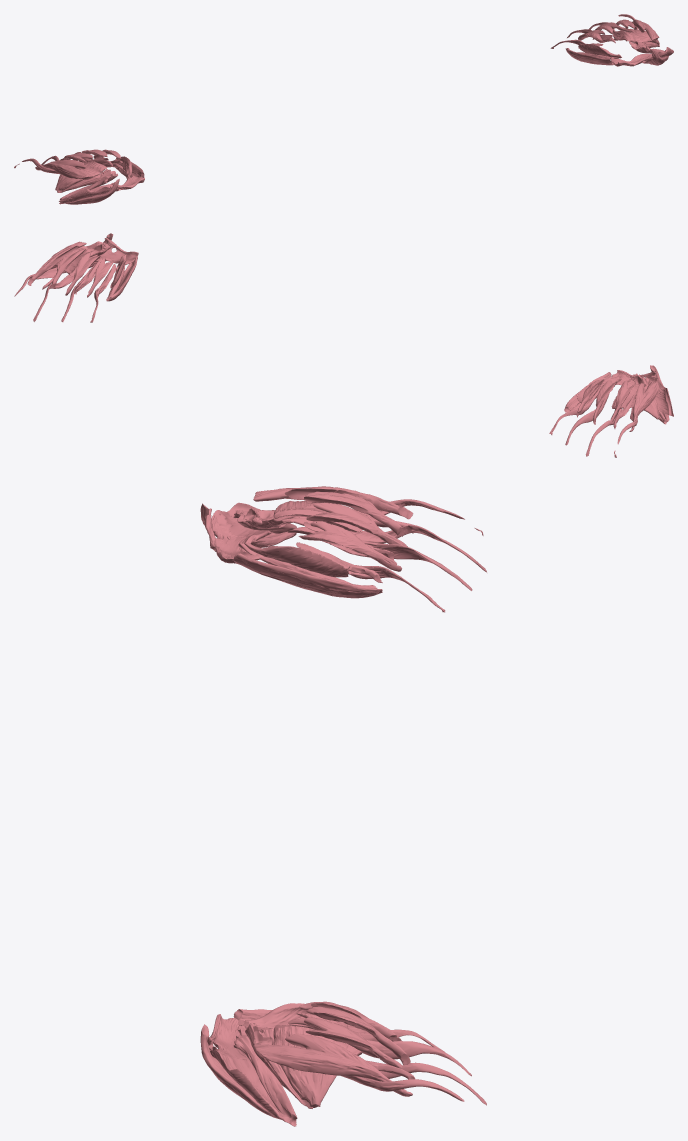
The model's file is main-muscles.glb.
3 renders of one model, top to bottom at view 1: azimuth 30°, elevation 25°; view 2: azimuth 150°, elevation 25°; view 3: azimuth 270°, elevation 25°, orthographic. The views are drawn at different scales.
Parts seen in each view (by area): view 1: interosseux_dorsaux_de_la_main_ensemble_droit, interosseux_dorsaux_de_la_main_ensemble_gauche, adducteur_du_pouce_chef_transverse_droit, lombricaux_de_la_main_ensemble_gauche, lombricaux_de_la_main_ensemble_droit, opposant_du_pouce_droit, court_abducteur_du_pouce_droit, abducteur_du_petit_doigt_gauche, adducteur_du_pouce_chef_transverse_gauche, adducteur_du_pouce_chef_oblique_droit, opposant_du_petit_doigt_gauche; view 2: interosseux_dorsaux_de_la_main_ensemble_gauche, interosseux_dorsaux_de_la_main_ensemble_droit, lombricaux_de_la_main_ensemble_droit, lombricaux_de_la_main_ensemble_gauche, retinaculum_des_flechisseurs_gauche, opposant_du_pouce_droit, adducteur_du_pouce_chef_transverse_droit, interosseux_palmaires_ensemble_gauche; view 3: interosseux_dorsaux_de_la_main_ensemble_gauche, interosseux_dorsaux_de_la_main_ensemble_droit, lombricaux_de_la_main_ensemble_droit, lombricaux_de_la_main_ensemble_gauche, abducteur_du_petit_doigt_droit, adducteur_du_pouce_chef_transverse_gauche, opposant_du_petit_doigt_droit, opposant_du_pouce_gauche, court_flechisseur_du_pouce_chef_profond_gauche, retinaculum_des_flechisseurs_droit, court_abducteur_du_pouce_gauche, retinaculum_des_flechisseurs_gauche (+3 smaller).
Part boxes in pixels (x1,y1,x2,y2): interosseux_dorsaux_de_la_main_ensemble_droit: [35, 149, 120, 179]; interosseux_dorsaux_de_la_main_ensemble_gauche: [578, 19, 659, 41]; adducteur_du_pouce_chef_transverse_droit: [55, 160, 107, 191]; lombricaux_de_la_main_ensemble_gauche: [550, 14, 638, 48]; lombricaux_de_la_main_ensemble_droit: [14, 152, 125, 174]; opposant_du_pouce_droit: [59, 185, 118, 202]; court_abducteur_du_pouce_droit: [60, 178, 119, 204]; abducteur_du_petit_doigt_gauche: [565, 48, 613, 65]; adducteur_du_pouce_chef_transverse_gauche: [613, 29, 659, 45]; adducteur_du_pouce_chef_oblique_droit: [57, 169, 116, 192]; opposant_du_petit_doigt_gauche: [578, 44, 621, 57]; interosseux_dorsaux_de_la_main_ensemble_gauche: [27, 241, 113, 297]; interosseux_dorsaux_de_la_main_ensemble_droit: [576, 379, 658, 431]; lombricaux_de_la_main_ensemble_droit: [549, 383, 637, 457]; lombricaux_de_la_main_ensemble_gauche: [14, 254, 118, 322]; retinaculum_des_flechisseurs_gauche: [99, 238, 138, 264]; opposant_du_pouce_droit: [648, 377, 673, 416]; adducteur_du_pouce_chef_transverse_droit: [611, 380, 659, 419]; interosseux_palmaires_ensemble_gauche: [42, 258, 116, 297]; interosseux_dorsaux_de_la_main_ensemble_gauche: [253, 1001, 412, 1096]; interosseux_dorsaux_de_la_main_ensemble_droit: [253, 486, 413, 571]; lombricaux_de_la_main_ensemble_droit: [278, 499, 486, 612]; lombricaux_de_la_main_ensemble_gauche: [278, 1018, 486, 1105]; abducteur_du_petit_doigt_droit: [232, 553, 382, 598]; adducteur_du_pouce_chef_transverse_gauche: [273, 1025, 362, 1107]; opposant_du_petit_doigt_droit: [245, 543, 350, 577]; opposant_du_pouce_gauche: [210, 1050, 280, 1118]; court_flechisseur_du_pouce_chef_profond_gauche: [233, 1025, 297, 1122]; retinaculum_des_flechisseurs_droit: [204, 508, 263, 563]; court_abducteur_du_pouce_gauche: [200, 1024, 289, 1123]; retinaculum_des_flechisseurs_gauche: [207, 1014, 262, 1059].
Size of the model in its own units: 612 by 39.27 by 123.
